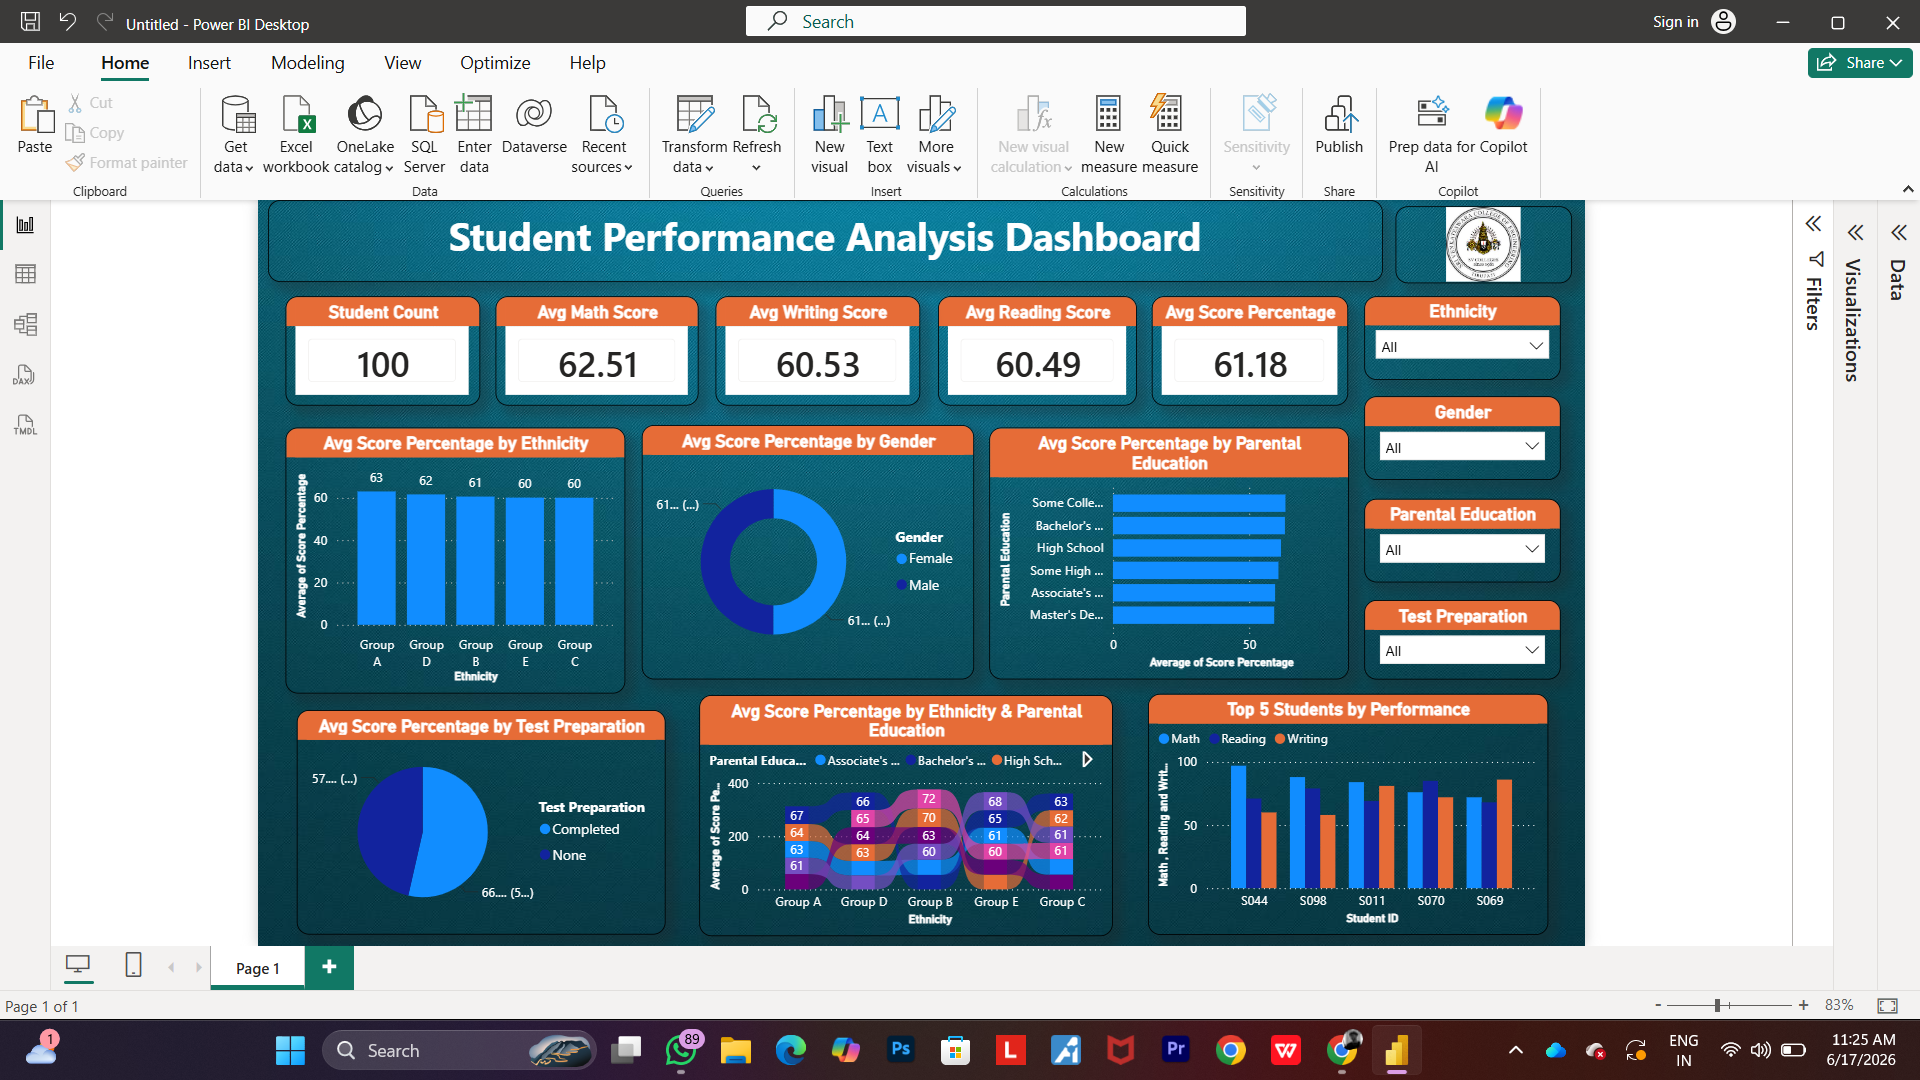

What the dashboard file says about the page in this screenshot:
{"tool":"powerbi","page":{"name":"Page 1","canvas":[1280,720],"ordinal":0},"visuals":[{"type":"textbox","box":[9.6,0,1075.8,79.6],"z":0},{"type":"image","box":[1097.8,5.5,170.2,74.1],"z":1000},{"type":"cardVisual","title":"Student Count","fields":{"Data":["CountNonNull(marks.Student ID)"]},"box":[26.1,93.3,188,105.7],"z":2000},{"type":"cardVisual","title":"Avg Math Score","fields":{"Data":["Avg(marks.Math Score)"]},"box":[229.2,93.3,196.2,105.7],"z":3000},{"type":"cardVisual","title":"Avg Reading Score","fields":{"Data":["Avg(marks.Reading Score)"]},"box":[655.9,93.3,192.1,105.7],"z":4000},{"type":"cardVisual","title":"Avg Writing Score","fields":{"Data":["Avg(marks.Writing Score)"]},"box":[441.9,93.3,197.6,105.7],"z":5000},{"type":"cardVisual","title":"Avg Score Percentage","fields":{"Data":["Avg(marks.Score Percentage)"]},"box":[863.1,93.3,189.4,105.7],"z":6000},{"type":"slicer","title":"Ethnicity","fields":{"Values":["marks.Ethnicity"]},"box":[1067.6,93.3,189.4,81],"z":7000},{"type":"slicer","title":"Gender","fields":{"Values":["marks.Gender"]},"box":[1067.6,189.4,189.4,81],"z":8000},{"type":"slicer","title":"Parental Education","fields":{"Values":["marks.Parental Education"]},"box":[1067.6,288.2,189.4,81],"z":9000},{"type":"columnChart","title":"Avg Score Percentage by Ethnicity","fields":{"Category":["marks.Ethnicity"],"Y":["Avg(marks.Score Percentage)"]},"box":[26.5,212.3,326.9,257],"z":10000},{"type":"donutChart","title":"Avg Score Percentage by Gender","fields":{"Category":["marks.Gender"],"Y":["Avg(marks.Score Percentage)"]},"box":[370.5,216.8,321.1,245.6],"z":11000},{"type":"clusteredBarChart","title":"Avg Score Percentage by Parental Education","fields":{"Y":["Avg(marks.Score Percentage)"],"Category":["marks.Parental Education"]},"box":[705.3,219.6,347.2,242.9],"z":12000},{"type":"pieChart","title":"Avg Score Percentage by Test Preparation","fields":{"Y":["Avg(marks.Score Percentage)"],"Category":["marks.Test Preparation"]},"box":[37.4,485,355.9,217.2],"z":13000},{"type":"ribbonChart","title":"Avg Score Percentage by Ethnicity & Parental Education","fields":{"Category":["marks.Ethnicity"],"Y":["Avg(marks.Score Percentage)"],"Series":["marks.Parental Education"]},"box":[425.9,477.8,399.3,232.8],"z":14000},{"type":"slicer","title":"Test Preparation","fields":{"Values":["marks.Test Preparation"]},"box":[1067.6,385.6,189.4,76.8],"z":15000},{"type":"clusteredColumnChart","title":"Top 5 Students by Performance","fields":{"Y":["Avg(marks.Math Score)","Avg(marks.Reading Score)","Avg(marks.Writing Score)"],"Category":["marks.Student ID"]},"box":[859,476.5,386.1,232.8],"z":15001}]}

Visuals, with their boxes on the page's 1280x720 design canvas (x1, y1, x2, y2). These are canvas units, not pixel positions in the 1920x1080 screenshot, which may show the page scaled, cropped or inside an application window:
textbox: [10, 0, 1085, 80]
image: [1098, 6, 1268, 80]
"Student Count" cardVisual: [26, 93, 214, 199]
"Avg Math Score" cardVisual: [229, 93, 425, 199]
"Avg Reading Score" cardVisual: [656, 93, 848, 199]
"Avg Writing Score" cardVisual: [442, 93, 640, 199]
"Avg Score Percentage" cardVisual: [863, 93, 1052, 199]
"Ethnicity" slicer: [1068, 93, 1257, 174]
"Gender" slicer: [1068, 189, 1257, 270]
"Parental Education" slicer: [1068, 288, 1257, 369]
"Avg Score Percentage by Ethnicity" columnChart: [26, 212, 353, 469]
"Avg Score Percentage by Gender" donutChart: [370, 217, 692, 462]
"Avg Score Percentage by Parental Education" clusteredBarChart: [705, 220, 1052, 462]
"Avg Score Percentage by Test Preparation" pieChart: [37, 485, 393, 702]
"Avg Score Percentage by Ethnicity & Parental Education" ribbonChart: [426, 478, 825, 711]
"Test Preparation" slicer: [1068, 386, 1257, 462]
"Top 5 Students by Performance" clusteredColumnChart: [859, 476, 1245, 709]
